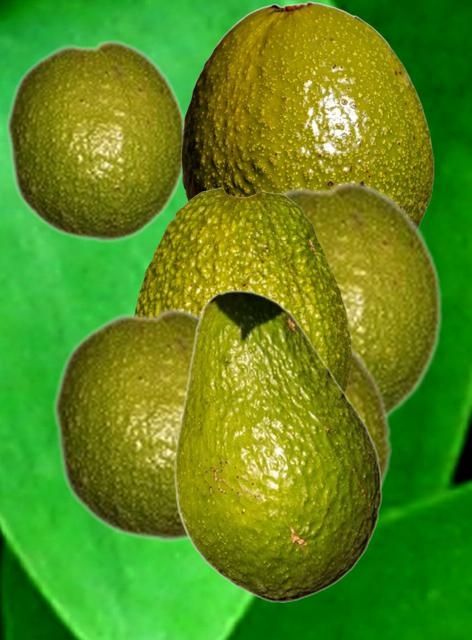avocado: (174, 290, 381, 601), (181, 1, 433, 225), (133, 187, 350, 391), (274, 179, 443, 417), (5, 38, 184, 243), (52, 306, 200, 543), (346, 339, 393, 500)
